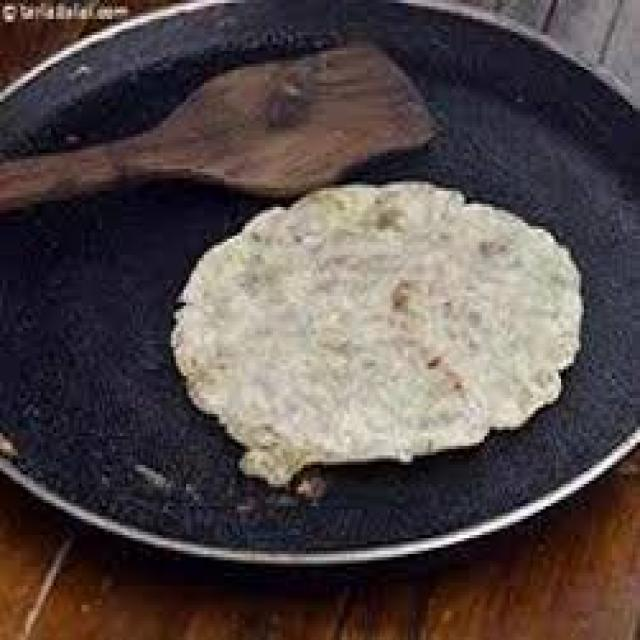RICE BHAKRI: (172, 180, 582, 481)
